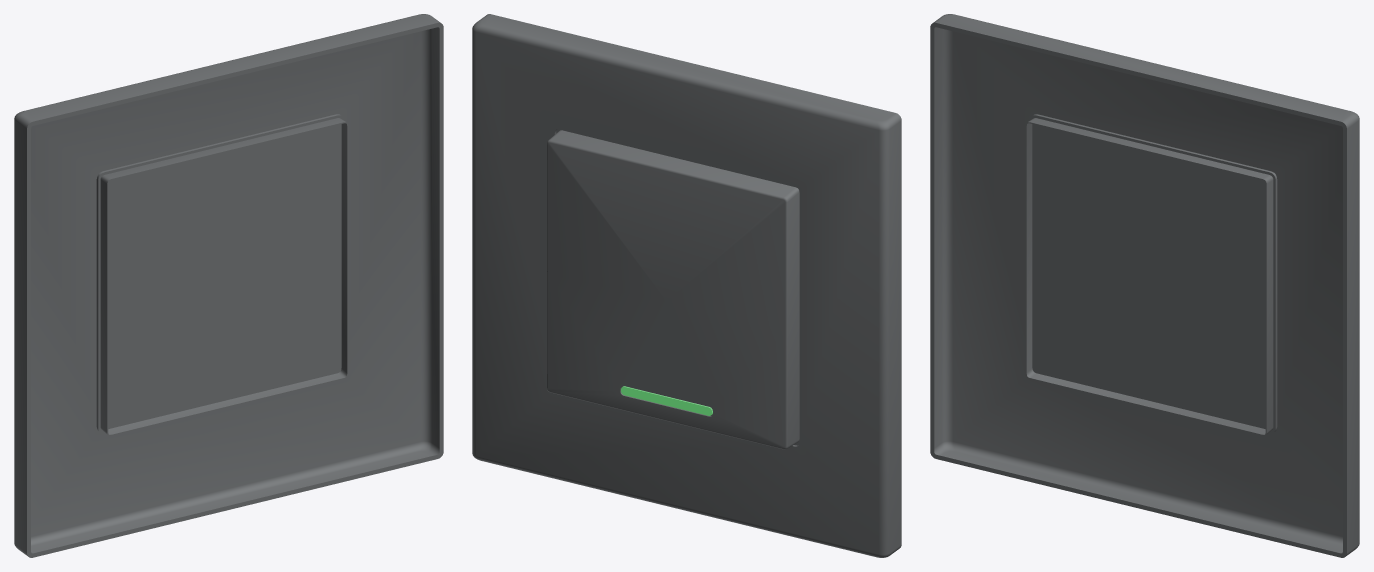
The model's file is lightSwitch.glb.
3 views of the same model, side by side, from view 1: azimuth 30°, elevation 25°; view 2: azimuth 150°, elevation 25°; view 3: azimuth 330°, elevation 25° (orthographic).
Visible parts, largest first — view 1: Cube_low, Cube.001_low; view 2: Cube_low, Cube.001_low, Cube.002_low; view 3: Cube_low, Cube.001_low.
Part boxes in pixels (box(x1,y1,x2,y2)): Cube_low: box(14, 14, 443, 557); Cube.001_low: box(100, 118, 348, 435); Cube_low: box(472, 14, 901, 557); Cube.001_low: box(547, 130, 799, 449); Cube.002_low: box(621, 386, 712, 415); Cube_low: box(930, 14, 1359, 557); Cube.001_low: box(1025, 118, 1273, 435).
Bounding box in the file's own units: 1.89 × 1.89 × 0.2101.
1 material, 1 textured.
